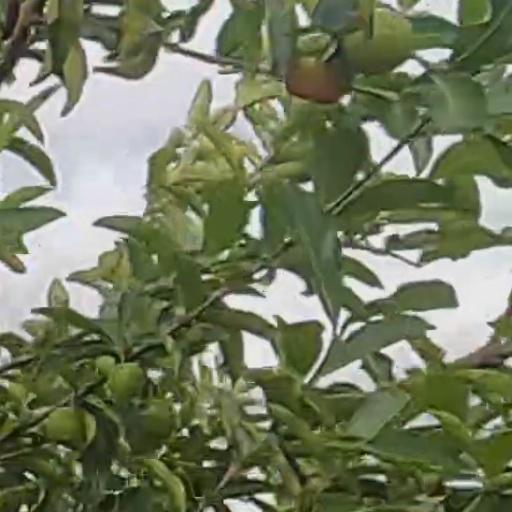acerola: (347, 14, 410, 70), (290, 57, 344, 102), (110, 365, 146, 397)
